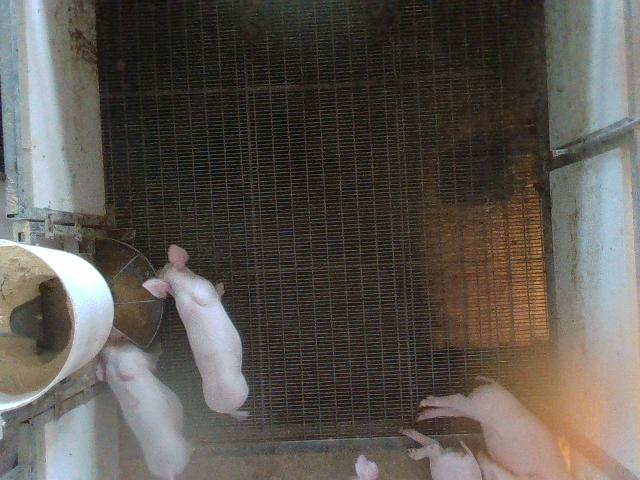pig-5: (100, 329, 191, 478)
